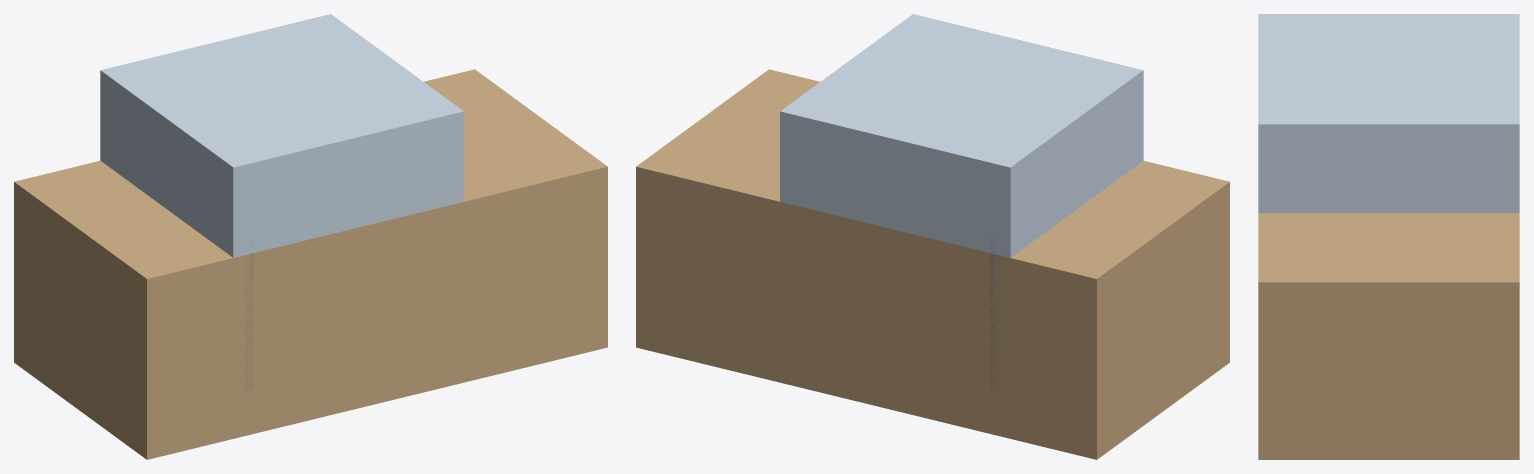
The model's file is flownet_seepage_exit_gradient_piping.glb.
3 views of the same model, side by side, from view 1: azimuth 30°, elevation 25°; view 2: azimuth 150°, elevation 25°; view 3: azimuth 270°, elevation 25° (orthographic).
Visible parts, largest first — view 1: PerviousFoundationSoilDomain, ImperviousConcreteWeirApronStructure; view 2: PerviousFoundationSoilDomain, ImperviousConcreteWeirApronStructure; view 3: PerviousFoundationSoilDomain, ImperviousConcreteWeirApronStructure.
Part boxes in pixels (x1,y1,x2,y2): PerviousFoundationSoilDomain: (14, 69, 607, 459); ImperviousConcreteWeirApronStructure: (100, 14, 463, 257); PerviousFoundationSoilDomain: (636, 69, 1229, 459); ImperviousConcreteWeirApronStructure: (780, 14, 1143, 257); PerviousFoundationSoilDomain: (1258, 213, 1519, 459); ImperviousConcreteWeirApronStructure: (1258, 14, 1519, 213).
Size of the model in its own units: 1.6 by 0.9 by 0.8.
